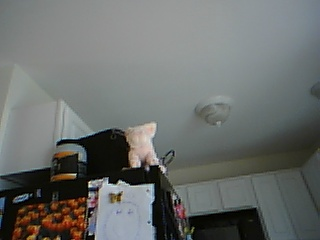piggy: (121, 121, 168, 173)
